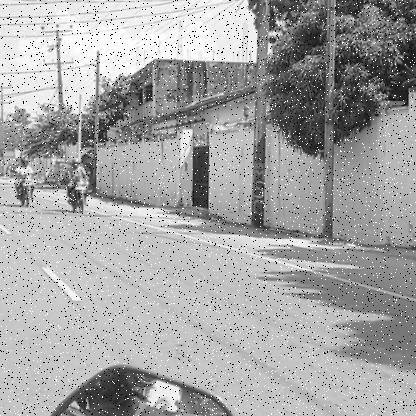motorcycle: (64, 176, 92, 216), (12, 172, 38, 209)
